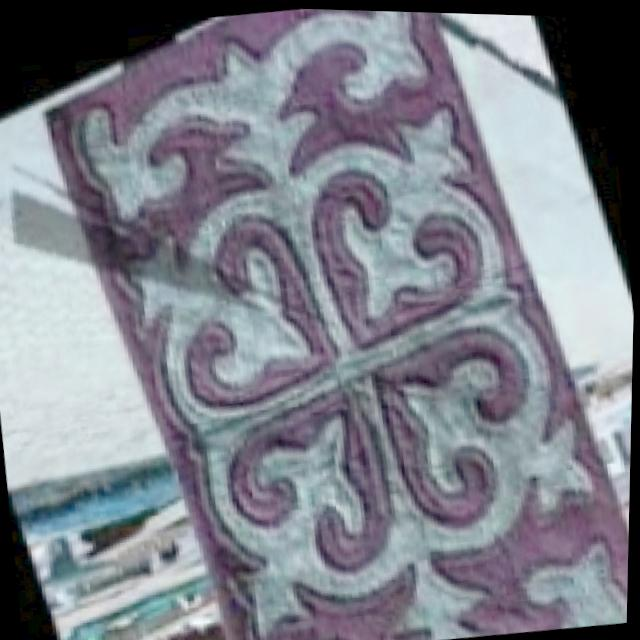Unity: (52, 81, 629, 640)
